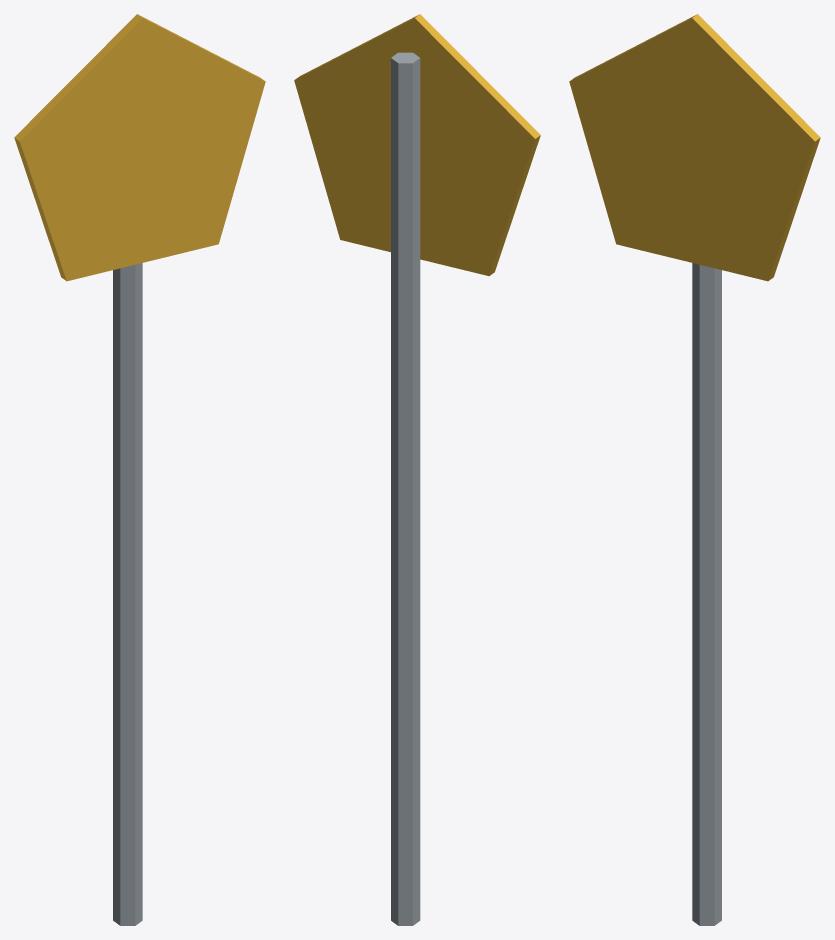
File: Sign_SchoolZone.glb
3 views of the same model, side by side, from view 1: azimuth 30°, elevation 25°; view 2: azimuth 150°, elevation 25°; view 3: azimuth 330°, elevation 25° (orthographic).
Visible parts, largest first — view 1: Sign_SchoolZone_Face, Sign_SchoolZone_Metal; view 2: Sign_SchoolZone_Face, Sign_SchoolZone_Metal; view 3: Sign_SchoolZone_Face, Sign_SchoolZone_Metal.
Boxes of the visible parts, x1,y1,x2,y2 form: Sign_SchoolZone_Face: [14, 14, 265, 281]; Sign_SchoolZone_Metal: [113, 263, 142, 925]; Sign_SchoolZone_Face: [294, 14, 540, 276]; Sign_SchoolZone_Metal: [391, 52, 420, 925]; Sign_SchoolZone_Face: [569, 14, 820, 281]; Sign_SchoolZone_Metal: [692, 263, 721, 925].
Size of the model in its own units: 0.7608 by 2.7 by 0.12.
